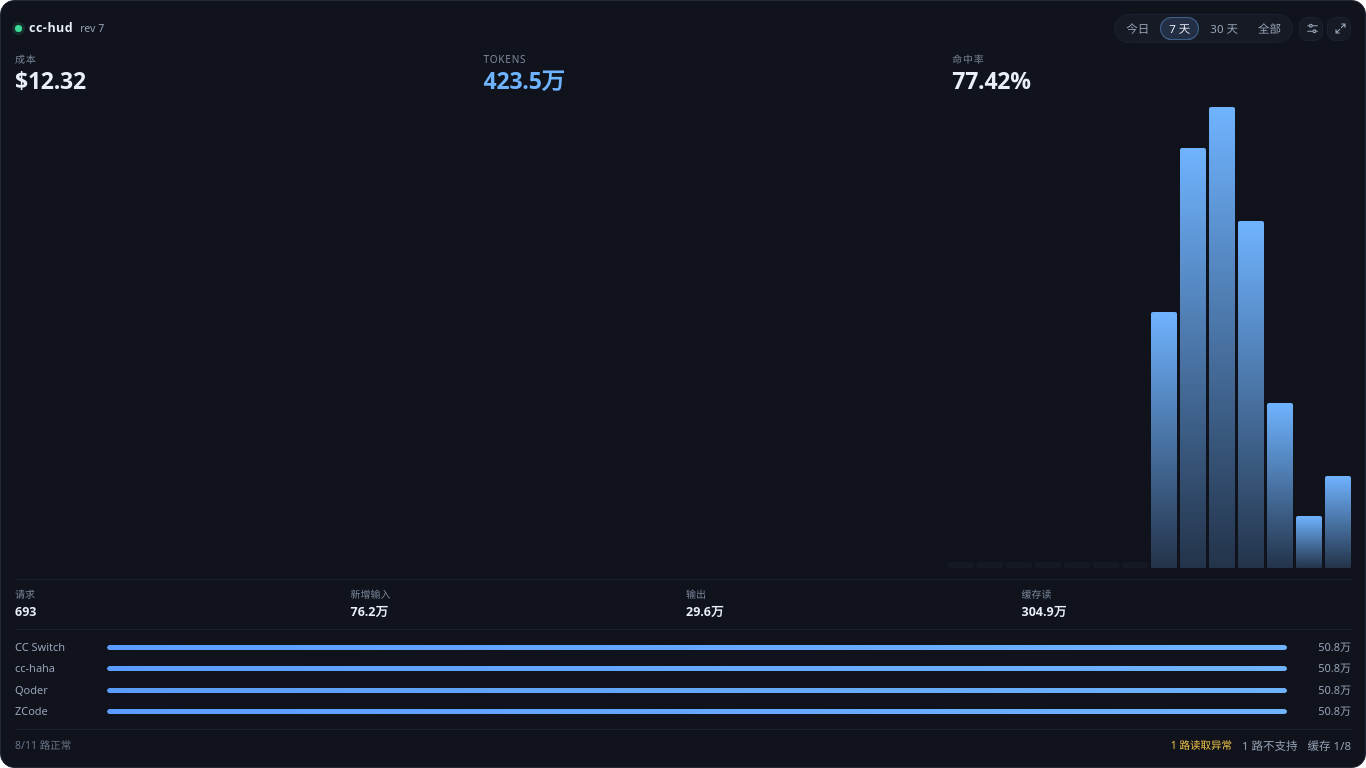
Test case: 布局切换 › 原生 resize 失败：保留小卡、提示可见、无 unhandled rejection
This screenshot has width=1366, height=768.
Click the button with test id "expand-insights": x=1339, y=29 [1327,17,1351,41]
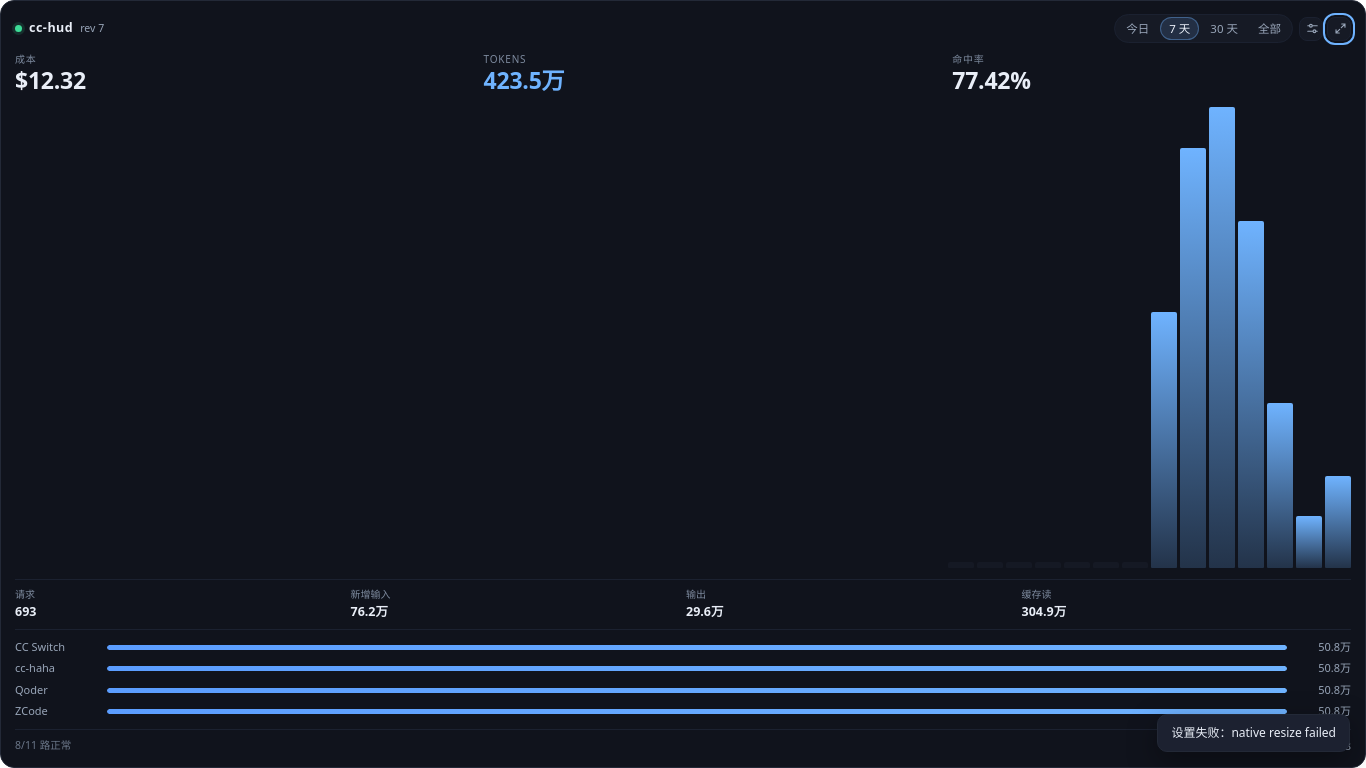
Result: the text "设置失败：native resize failed" is shown at [1157,714,1350,752]
